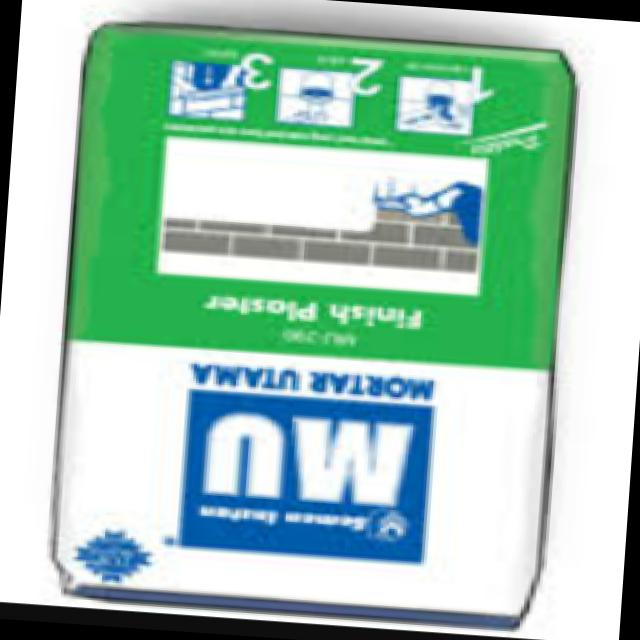KantongSemen: (42, 17, 586, 636)
